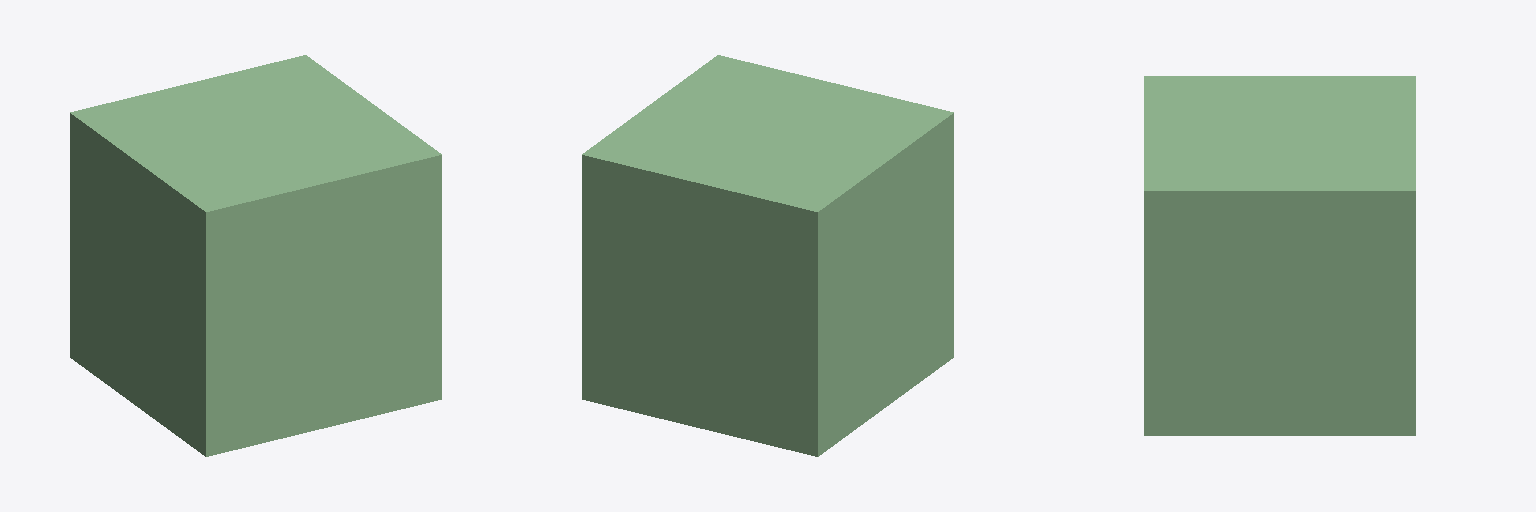
The model's file is BreakableStick1.obj.
3 renders of one model, left to right at view 1: azimuth 30°, elevation 25°; view 2: azimuth 150°, elevation 25°; view 3: azimuth 270°, elevation 25°, orthographic.
Parts seen in each view (by area): view 1: Fragment001, Fragment002, Fragment003, Fragment006, Fragment009, Fragment, Fragment010, Fragment004; view 2: Fragment004, Fragment007, Fragment003, Fragment005, Fragment006, Fragment, Fragment001, Fragment010; view 3: Fragment, Fragment008, Fragment005, Fragment003, Fragment002, Fragment001.
Part boxes in pixels (x1,y1,x2,y2): Fragment001: (206, 115, 441, 367); Fragment002: (276, 156, 441, 398); Fragment003: (70, 55, 304, 283); Fragment006: (112, 187, 308, 455); Fragment009: (206, 341, 441, 456); Fragment: (170, 55, 441, 154); Fragment010: (70, 230, 205, 456); Fragment004: (70, 113, 137, 311); Fragment004: (635, 175, 885, 369); Fragment007: (582, 264, 817, 456); Fragment003: (585, 113, 953, 283); Fragment005: (582, 155, 693, 397); Fragment006: (861, 115, 953, 374); Fragment: (582, 55, 765, 175); Fragment001: (719, 55, 953, 138); Fragment010: (818, 329, 953, 456); Fragment: (1145, 113, 1415, 350); Fragment008: (1144, 330, 1415, 435); Fragment005: (1238, 192, 1415, 388); Fragment003: (1145, 76, 1415, 189); Fragment002: (1144, 191, 1251, 434); Fragment001: (1144, 76, 1312, 190).
Bounding box in the file's own units: 1 × 0.99 × 1.